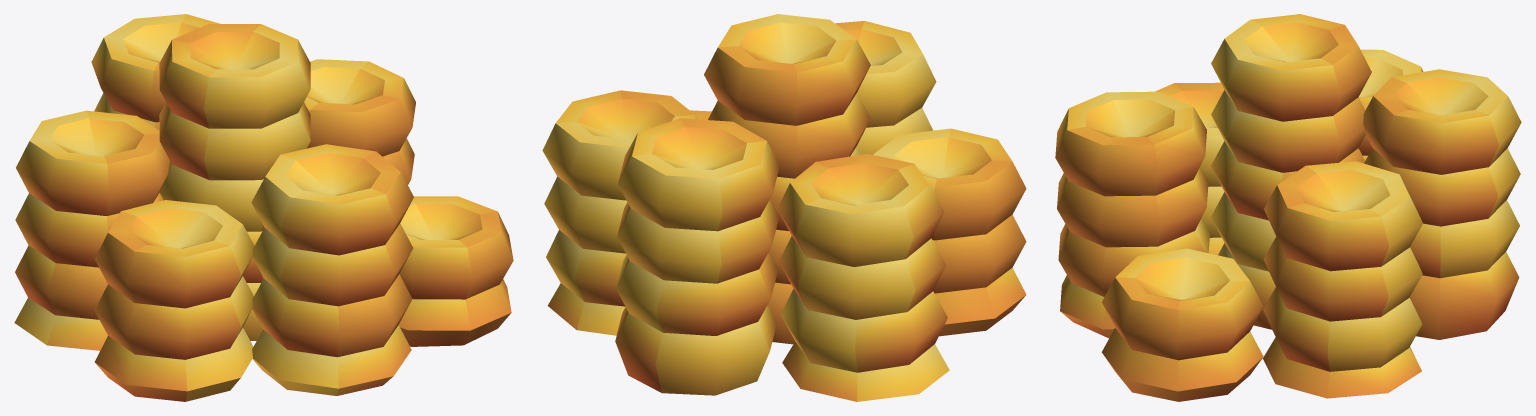
File: CoinStackMedium.glb
3 views of the same model, side by side, from view 1: azimuth 30°, elevation 25°; view 2: azimuth 150°, elevation 25°; view 3: azimuth 270°, elevation 25° (orthographic). The views are drawn at different scales.
Parts seen in each view (by area): view 1: coin_stack_medium; view 2: coin_stack_medium; view 3: coin_stack_medium.
Boxes of the visible parts, box(x1,y1,x2,y2) form: coin_stack_medium: box(14, 14, 513, 401); coin_stack_medium: box(542, 14, 1026, 401); coin_stack_medium: box(1055, 14, 1521, 401).
Size of the model in its own units: 0.9934 by 0.6407 by 1.03.
Materials: 1 (1 with a texture image).
